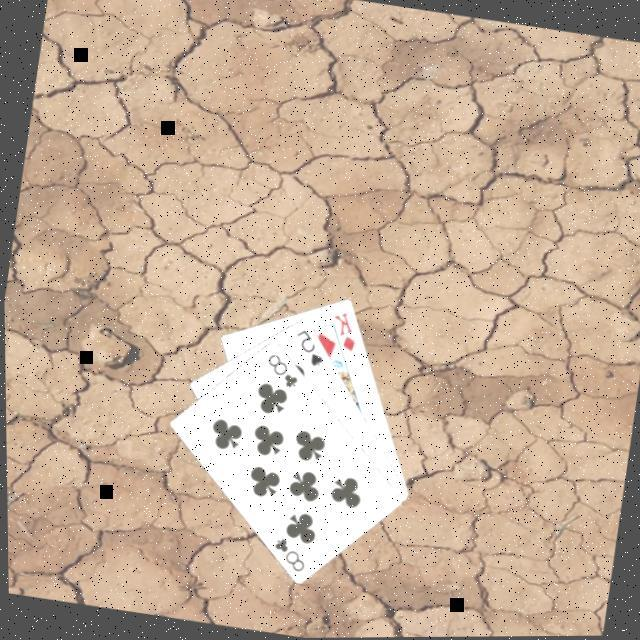5S: (289, 323, 332, 370)
8C: (260, 348, 305, 390), (266, 532, 311, 574)
KD: (325, 306, 364, 354)
